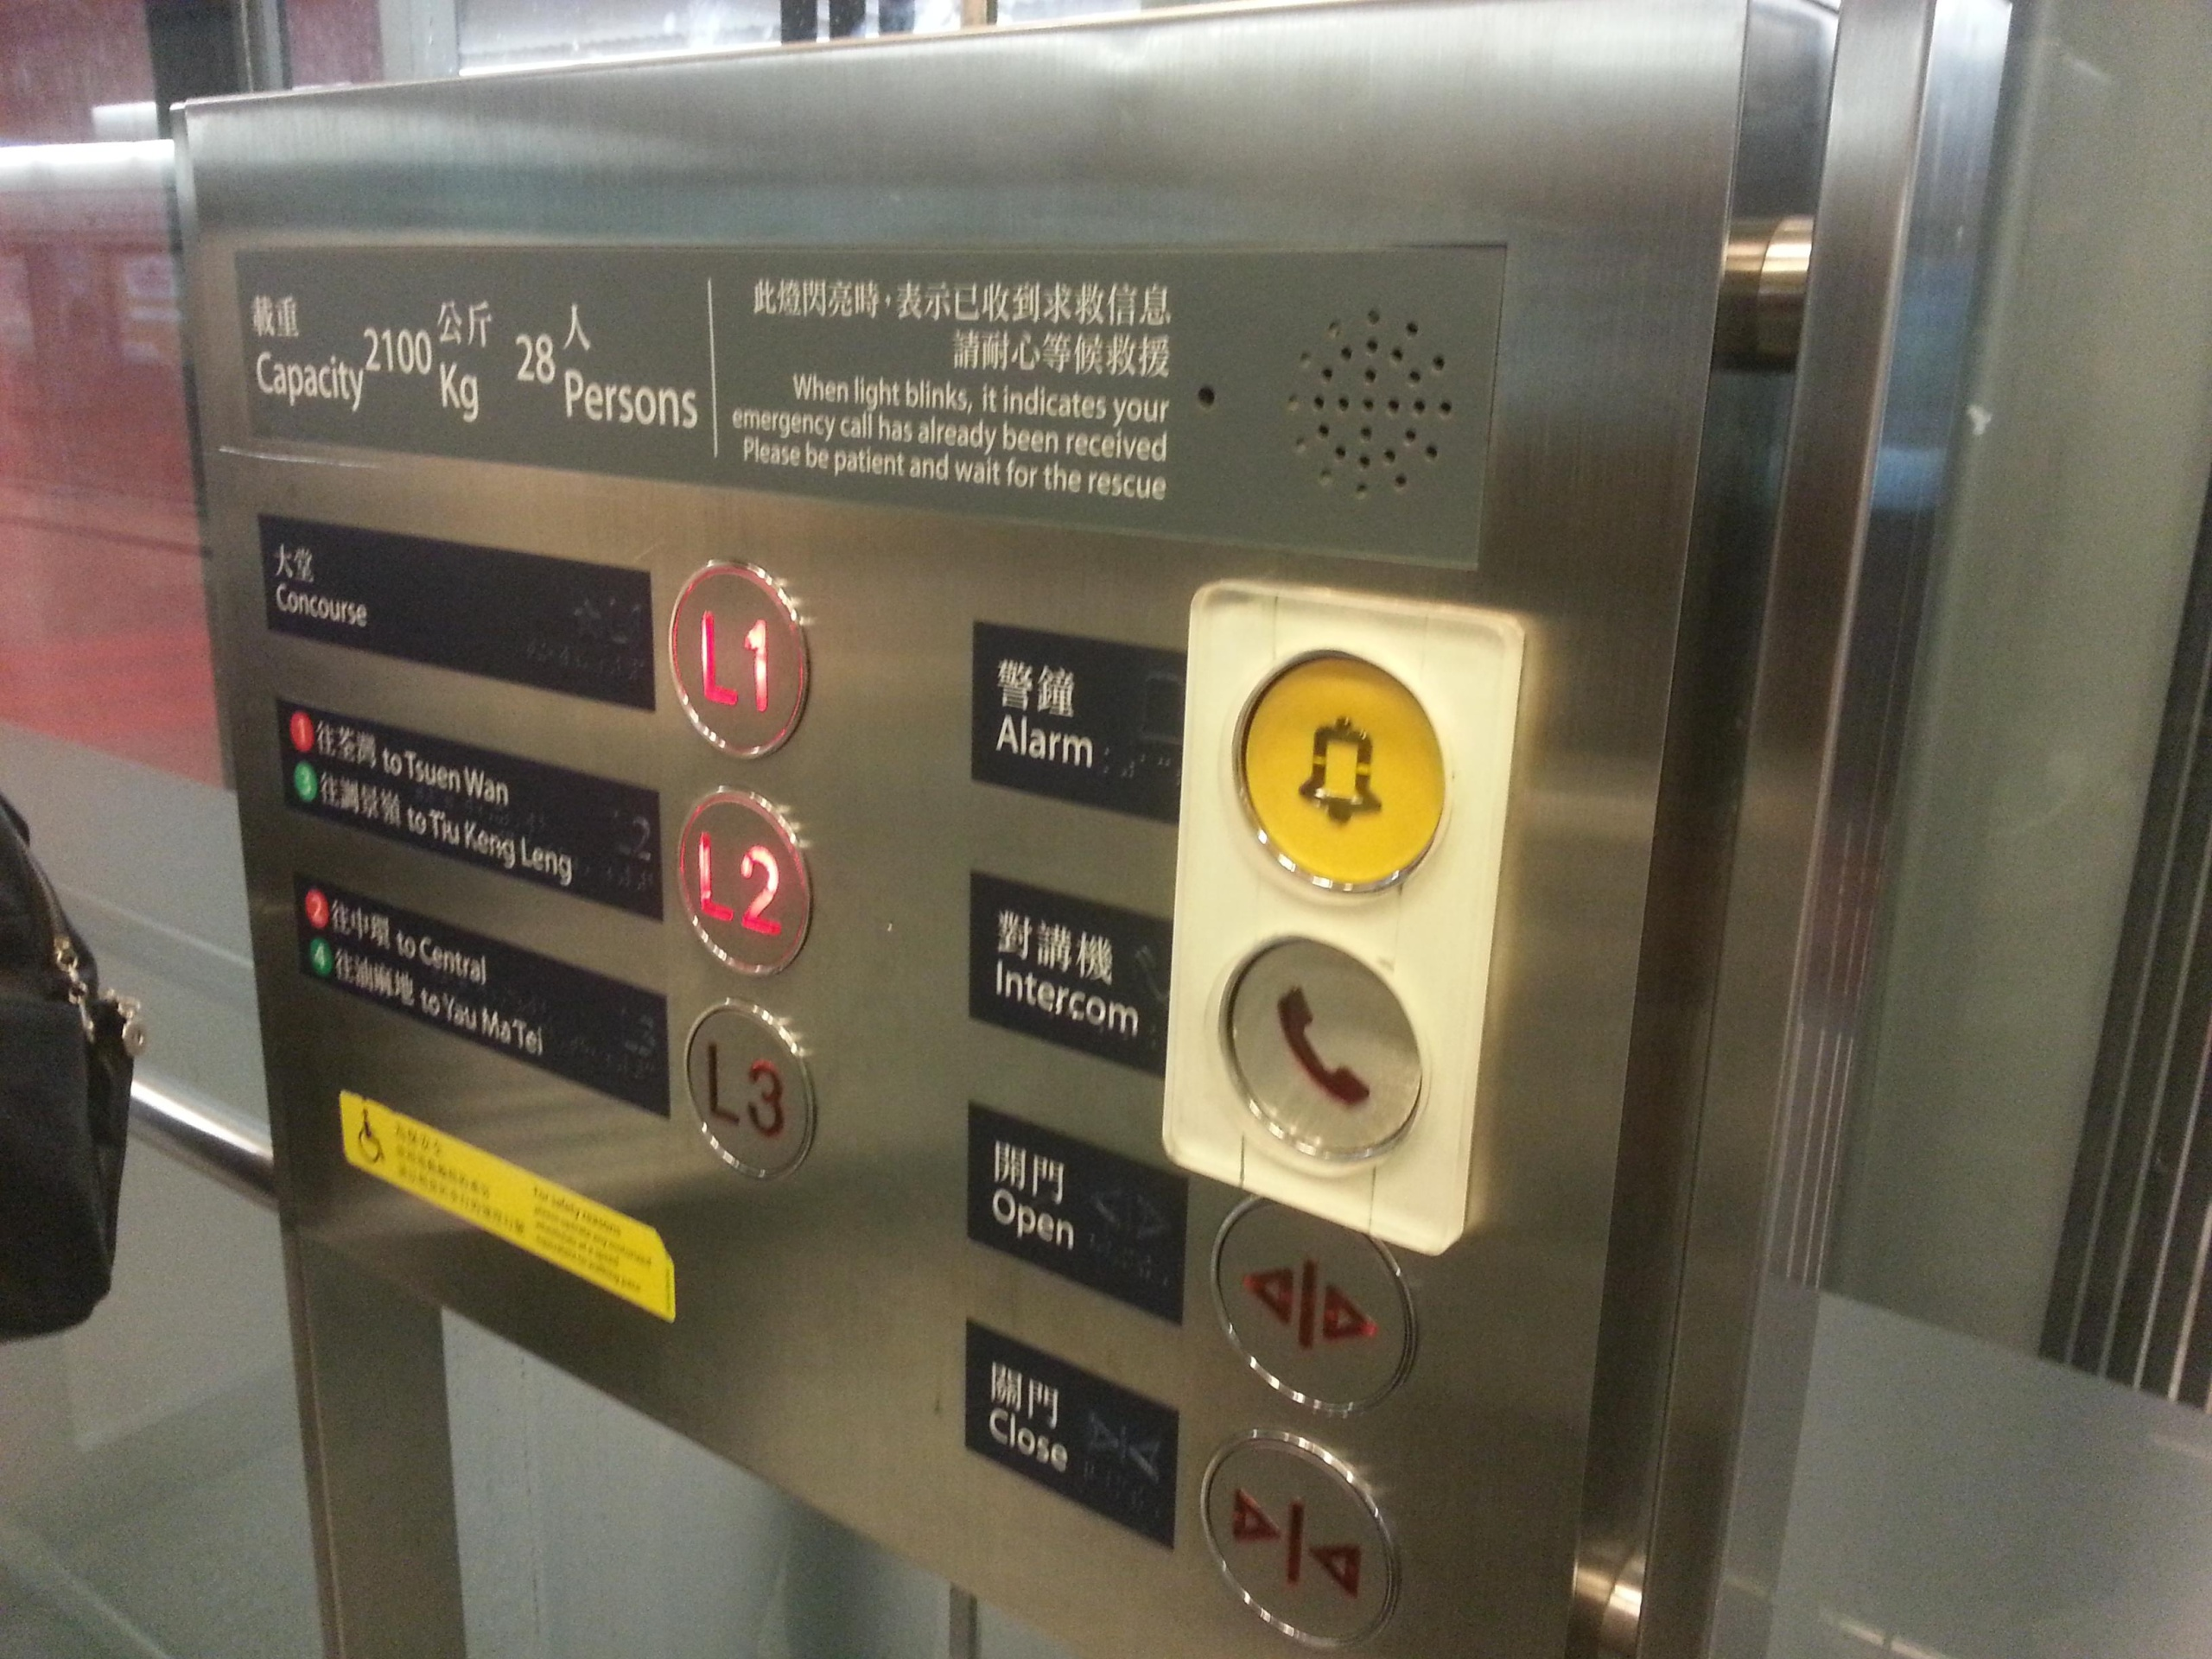L1: (664, 552, 822, 763)
L2: (672, 784, 813, 983)
L3: (678, 997, 822, 1182)
alarm: (1228, 650, 1449, 899)
call: (1214, 934, 1426, 1166)
close: (1198, 1432, 1397, 1649)
open: (1205, 1197, 1420, 1420)
